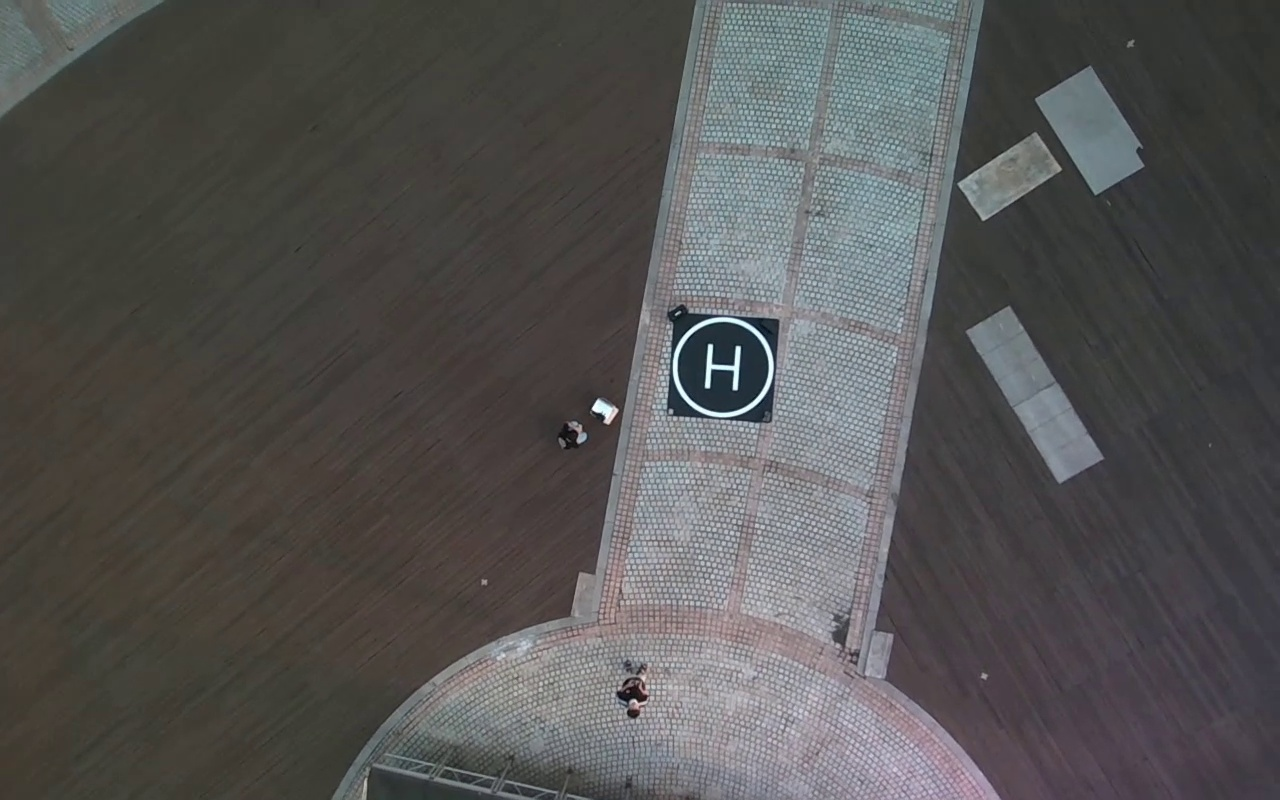H: (704, 343, 741, 390)
heliport: (672, 316, 775, 417)
